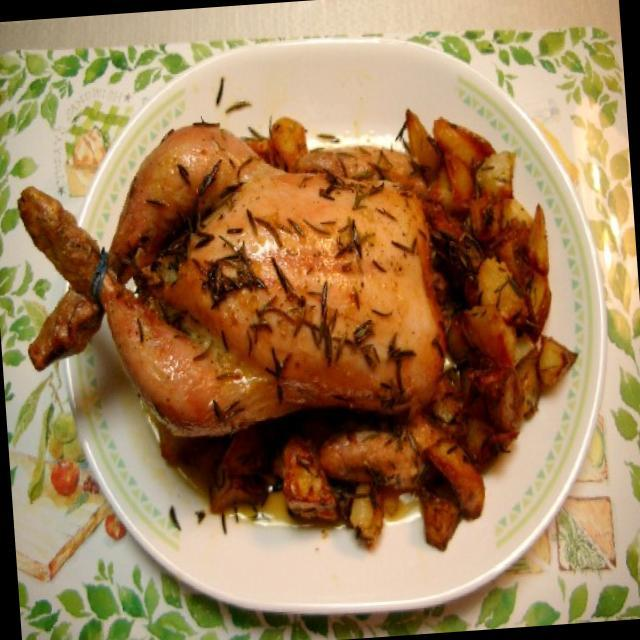Chicken: (6, 85, 460, 452)
